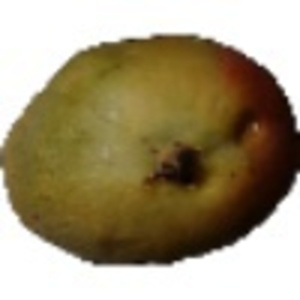mamão: (3, 30, 297, 272)
